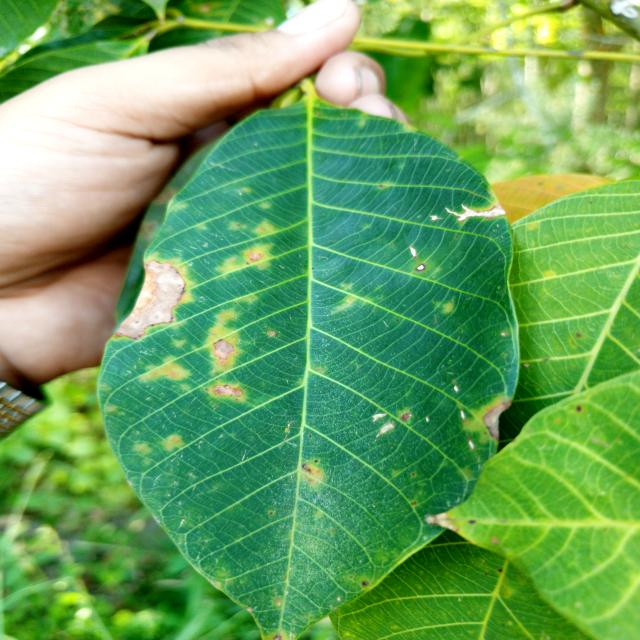Colletotrichum: (416, 264, 426, 271), (361, 580, 369, 587), (314, 460, 318, 462), (309, 435, 311, 438)
Leaf-Blight: (116, 258, 186, 339), (482, 401, 514, 441), (445, 204, 506, 222)
